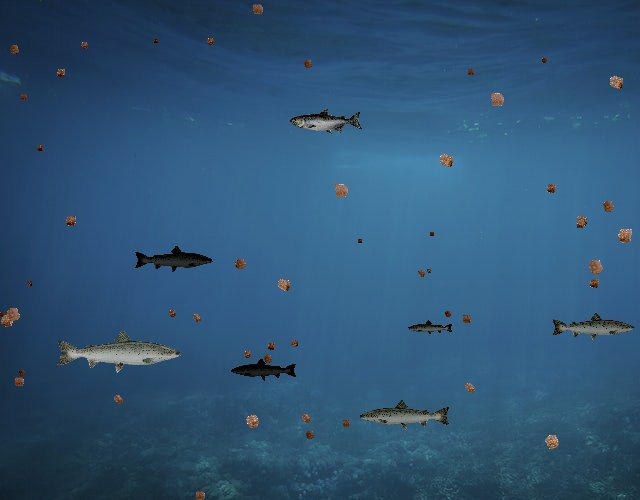Fish: (54, 328, 183, 374), (359, 399, 453, 432), (550, 311, 636, 342), (133, 244, 214, 273), (291, 108, 364, 134), (230, 357, 298, 382), (407, 319, 454, 336)
Pellet: (610, 220, 640, 250), (238, 407, 266, 435), (270, 271, 297, 298), (4, 39, 25, 60), (76, 38, 92, 54), (538, 54, 551, 67), (23, 278, 35, 290)
